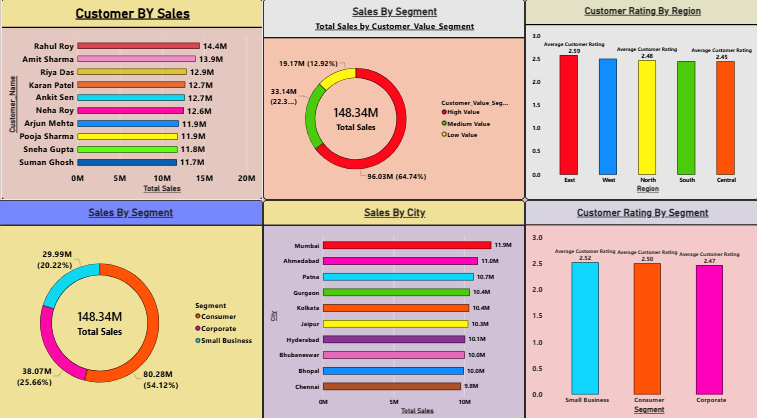

The dashboard page shown, as its layout file describes it:
{"tool":"powerbi","page":{"name":"03.Customer  Analysis ","canvas":[1920,1080],"ordinal":2},"visuals":[{"type":"clusteredBarChart","title":"Customer BY Sales","fields":{"Category":["Customers.Customer_Name "],"Y":["Measure.Total Sales"]},"box":[10.1,0,660.2,506.5],"z":0},{"type":"donutChart","title":"Sales By Segment","fields":{"Category":["Customers.Segment"],"Y":["Measure.Total Sales"]},"box":[0,506.5,670.2,556.9],"z":1000},{"type":"donutChart","title":"Sales By Segment","fields":{"Category":["Customers.Customer_Value_Segment"],"Y":["Measure.Total Sales"]},"box":[670.2,0,660,506],"z":2000},{"type":"clusteredBarChart","title":"Sales By City","fields":{"Category":["Customers.City"],"Y":["Measure.Total Sales"]},"box":[670.2,506.5,660.2,556.9],"z":3000},{"type":"clusteredColumnChart","title":"Customer Rating By Region","fields":{"Category":["Customers.Region"],"Y":["Measure.Average Customer Rating"]},"box":[1330.4,0,589.6,506.5],"z":4000},{"type":"clusteredColumnChart","title":"Customer Rating By Segment","fields":{"Category":["Customers.Segment"],"Y":["Measure.Average Customer Rating"]},"box":[1330.4,506.5,589.6,556.9],"z":5000}]}

Visuals, with their boxes in screenshot pixels (x1, y1, x2, y2), scaled from the page's 1920x1080 canvas onto the 757x418 screenshot:
"Customer BY Sales" clusteredBarChart: <region>4, 0, 264, 196</region>
"Sales By Segment" donutChart: <region>0, 196, 264, 412</region>
"Sales By Segment" donutChart: <region>264, 0, 524, 196</region>
"Sales By City" clusteredBarChart: <region>264, 196, 525, 412</region>
"Customer Rating By Region" clusteredColumnChart: <region>525, 0, 756, 196</region>
"Customer Rating By Segment" clusteredColumnChart: <region>525, 196, 756, 412</region>
